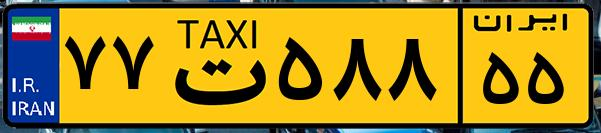5: (270, 28, 330, 110), (475, 38, 525, 113), (525, 38, 570, 115)
7: (57, 26, 110, 100), (110, 28, 158, 98)
8: (385, 28, 445, 110), (330, 28, 385, 110)
ت: (158, 12, 270, 120)
